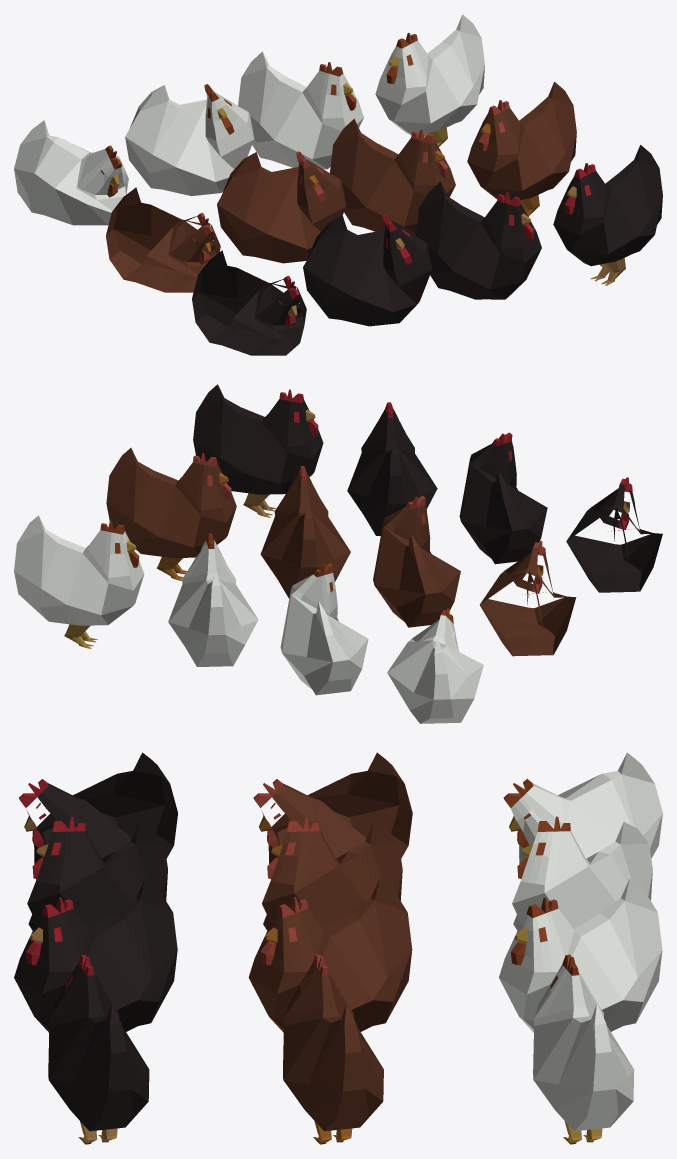
The model's file is chickens_by_Hatty_black.fbx.
The picture shows the model from 3 angles, top to bottom: view 1: azimuth 30°, elevation 25°; view 2: azimuth 150°, elevation 25°; view 3: azimuth 270°, elevation 25°; orthographic projection. The views are drawn at different scales.
Parts seen in each view (by area): view 1: Chicken_Bl_Look, Chicken_W_Look, Chicken_Bl_Sit, Chicken_Br_Look, Chicken_W_Sit, Chicken_Bl_Stand, Chicken_W_Stand, Chicken_Br_Stand, Chicken_B_Sit, Chicken_Bl_Sleep, Chicken_W_Sleep, Chicken_Br_Sleep; view 2: Chicken_W_Stand, Chicken_Br_Stand, Chicken_Bl_Stand, Chicken_W_Look, Chicken_Bl_Look, Chicken_Br_Look, Chicken_W_Sit, Chicken_W_Sleep, Chicken_B_Sit, Chicken_Bl_Sit, Chicken_Br_Sleep, Chicken_Bl_Sleep; view 3: Chicken_Bl_Sit, Chicken_B_Sit, Chicken_W_Sit, Chicken_Bl_Stand, Chicken_Br_Stand, Chicken_W_Stand, Chicken_W_Look, Chicken_Bl_Look, Chicken_Br_Look, Chicken_W_Sleep, Chicken_Bl_Sleep, Chicken_Br_Sleep.
Part boxes in pixels (bbox=[...]): Chicken_Bl_Look: bbox=[303, 214, 432, 326]; Chicken_W_Look: bbox=[125, 84, 254, 196]; Chicken_Bl_Sit: bbox=[416, 181, 541, 299]; Chicken_Br_Look: bbox=[217, 151, 345, 263]; Chicken_W_Sit: bbox=[238, 51, 363, 169]; Chicken_Bl_Stand: bbox=[553, 145, 662, 285]; Chicken_W_Stand: bbox=[375, 14, 484, 146]; Chicken_Br_Stand: bbox=[467, 82, 576, 216]; Chicken_B_Sit: bbox=[330, 118, 455, 235]; Chicken_Bl_Sleep: bbox=[192, 250, 306, 355]; Chicken_W_Sleep: bbox=[14, 120, 128, 225]; Chicken_Br_Sleep: bbox=[106, 187, 220, 292]; Chicken_W_Stand: bbox=[14, 515, 144, 648]; Chicken_Br_Stand: bbox=[106, 448, 236, 580]; Chicken_Bl_Stand: bbox=[193, 384, 323, 517]; Chicken_W_Look: bbox=[280, 563, 368, 695]; Chicken_Bl_Look: bbox=[459, 432, 547, 564]; Chicken_Br_Look: bbox=[373, 496, 460, 627]; Chicken_W_Sit: bbox=[168, 533, 258, 666]; Chicken_W_Sleep: bbox=[387, 608, 483, 723]; Chicken_B_Sit: bbox=[260, 466, 350, 598]; Chicken_Bl_Sit: bbox=[347, 402, 437, 535]; Chicken_Br_Sleep: bbox=[480, 540, 576, 656]; Chicken_Bl_Sleep: bbox=[566, 477, 662, 592]; Chicken_Bl_Sit: bbox=[14, 878, 177, 1032]; Chicken_B_Sit: bbox=[248, 878, 412, 1032]; Chicken_W_Sit: bbox=[499, 878, 662, 1032]; Chicken_Bl_Stand: bbox=[48, 954, 149, 1144]; Chicken_Br_Stand: bbox=[283, 954, 383, 1144]; Chicken_W_Stand: bbox=[533, 954, 634, 1144]; Chicken_W_Look: bbox=[512, 816, 652, 930]; Chicken_Bl_Look: bbox=[27, 816, 167, 930]; Chicken_Br_Look: bbox=[262, 816, 402, 930]; Chicken_W_Sleep: bbox=[503, 752, 662, 863]; Chicken_Bl_Sleep: bbox=[19, 752, 177, 863]; Chicken_Br_Sleep: bbox=[253, 752, 412, 863].
Size of the model in its own units: 1706 by 454 by 1546.
